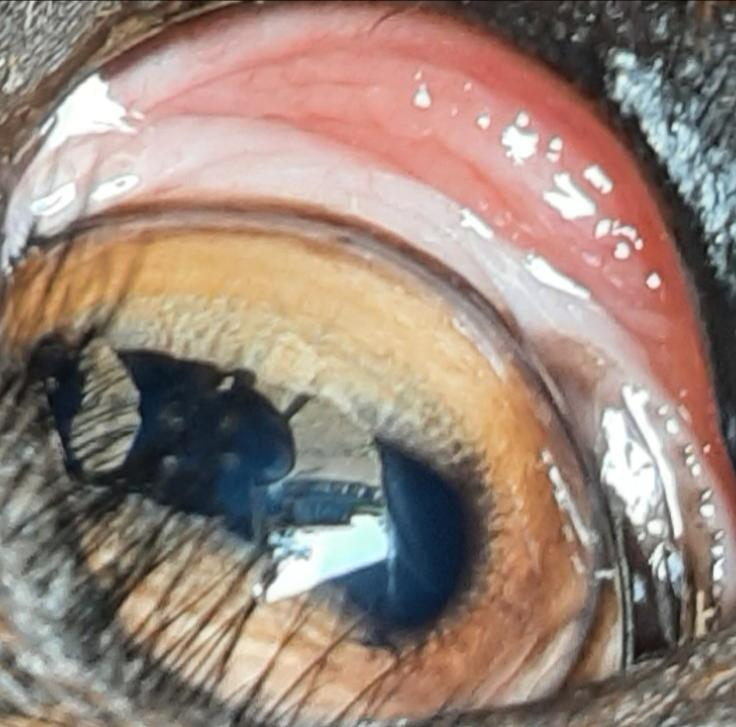eye_membrane: (0, 5, 736, 664)
